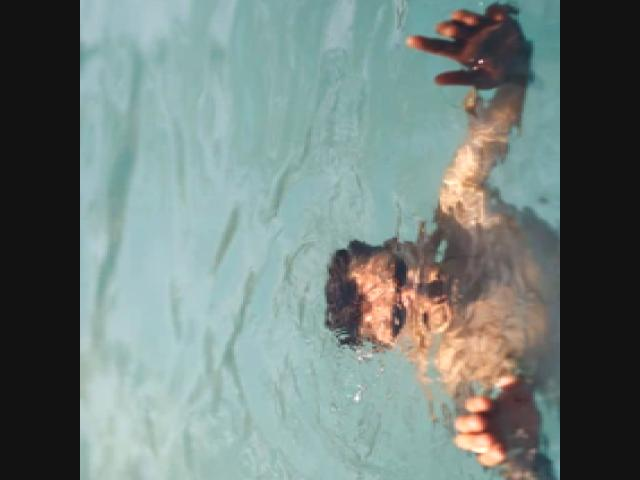drowning: (321, 0, 560, 480)
